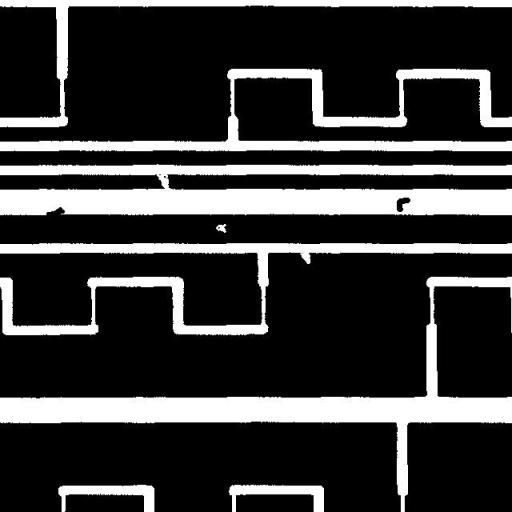copper: (388, 190, 418, 219)
mousebite: (292, 242, 318, 272)
open: (148, 163, 178, 199)
pin-hole: (208, 216, 234, 240)
spur: (38, 199, 72, 223)
